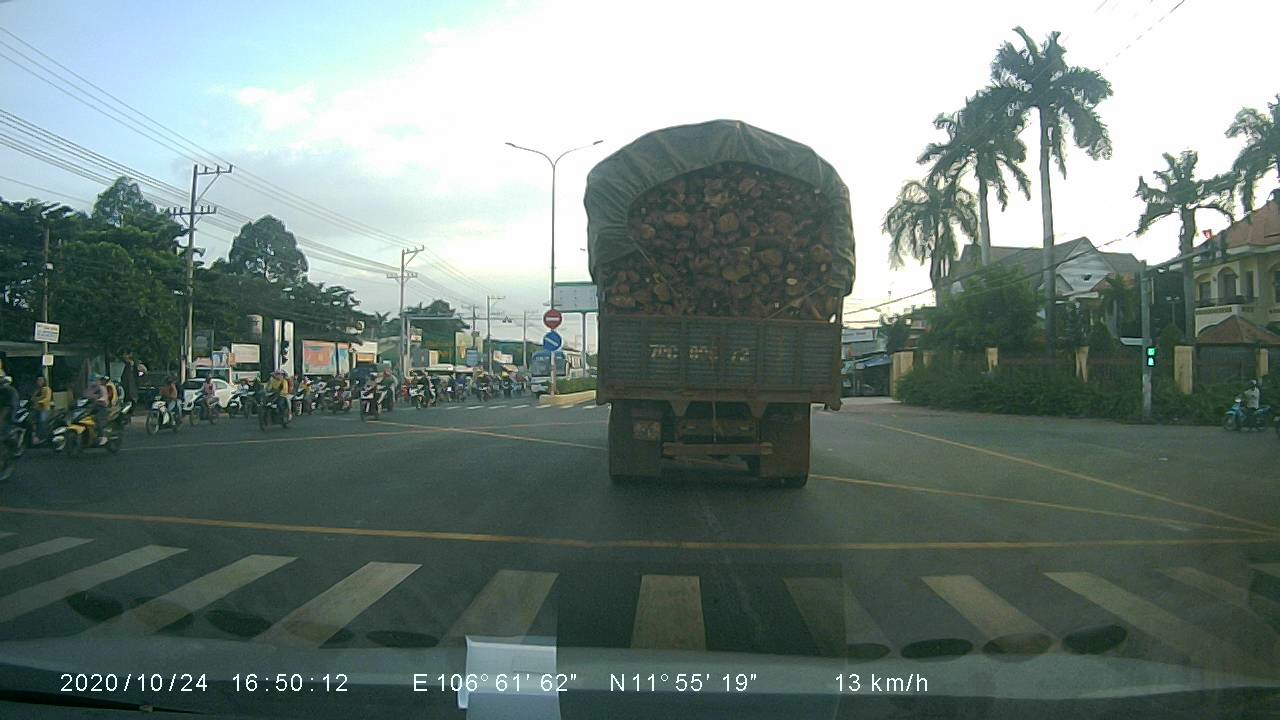Cam di nguoc chieu: (540, 307, 561, 327)
Huong di phai re phai: (540, 329, 564, 354)
